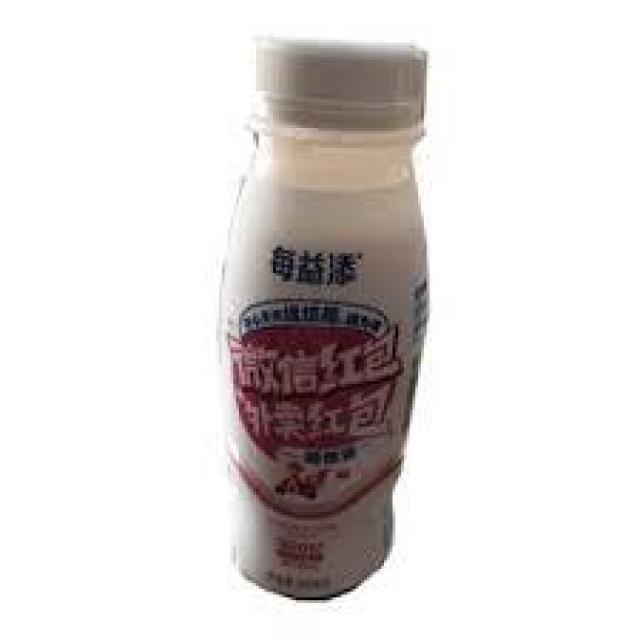-Recyclables - plastic bottle-: (218, 36, 423, 601)
